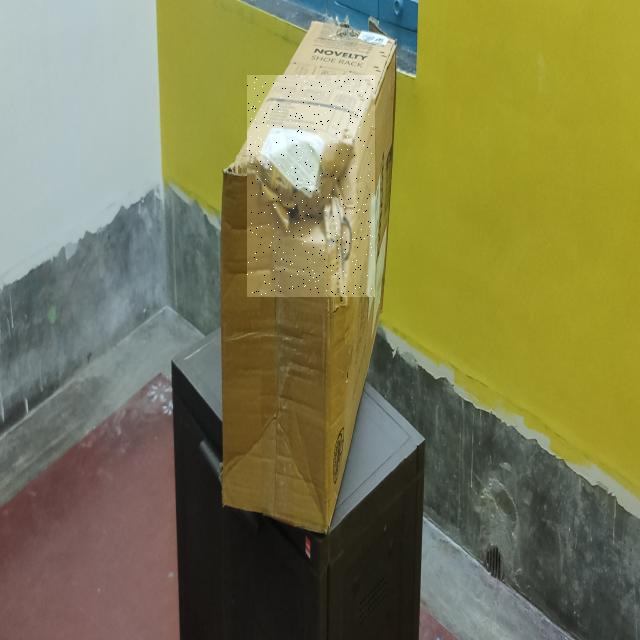tear: (247, 75, 373, 295)
